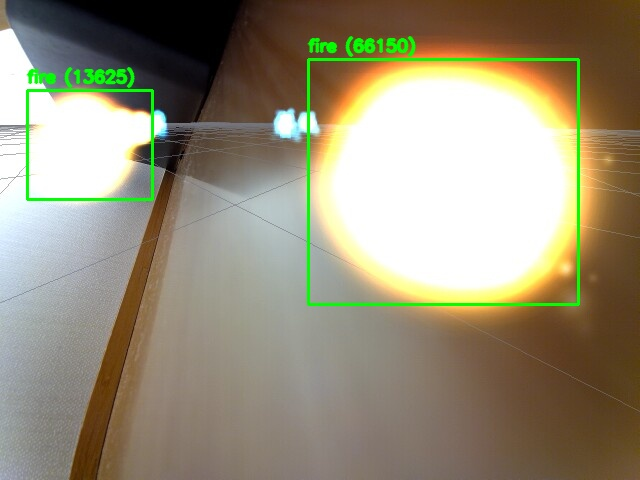fire: (308, 59, 578, 304), (27, 90, 152, 199)
